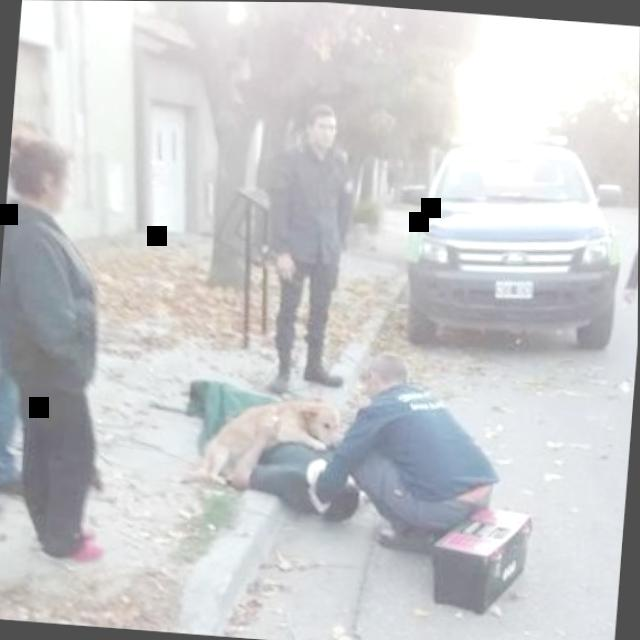Fall-Detected: (157, 366, 376, 530)
